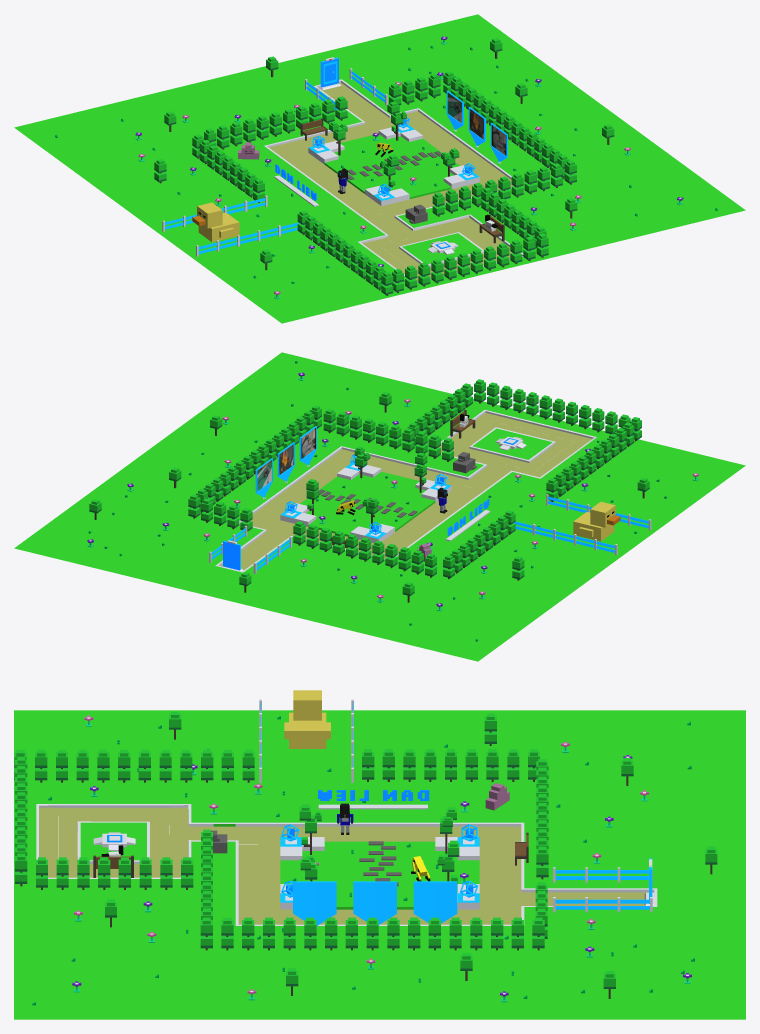
File: portfolio_5.0.glb
The picture shows the model from 3 angles, top to bottom: view 1: azimuth 30°, elevation 25°; view 2: azimuth 150°, elevation 25°; view 3: azimuth 270°, elevation 25°; orthographic projection. The views are drawn at different scales.
Parts seen in each view (by area): view 1: Ground, Portal, Name, Project 3, Project 1, Project 2; view 2: Ground, Name, Project 1, Project 2, Project 3; view 3: Ground, Project 1, Project 3, Project 2, Name.
Boxes of the visible parts, x1,y1,x2,y2 form: Ground: (14,14,745,323); Portal: (319,57,341,90); Name: (274,164,318,206); Project 3: (490,123,507,162); Project 1: (446,90,463,129); Project 2: (468,107,485,145); Ground: (14,352,745,661); Name: (445,498,490,541); Project 1: (255,458,272,497); Project 2: (277,442,294,481); Project 3: (299,426,316,465); Ground: (14,690,745,1019); Project 1: (413,881,457,923); Project 3: (293,881,336,925); Project 2: (353,881,396,924); Name: (318,790,429,809).
Bounding box in the file's own units: 252 × 20.81 × 252.
28 materials, 3 textured.
